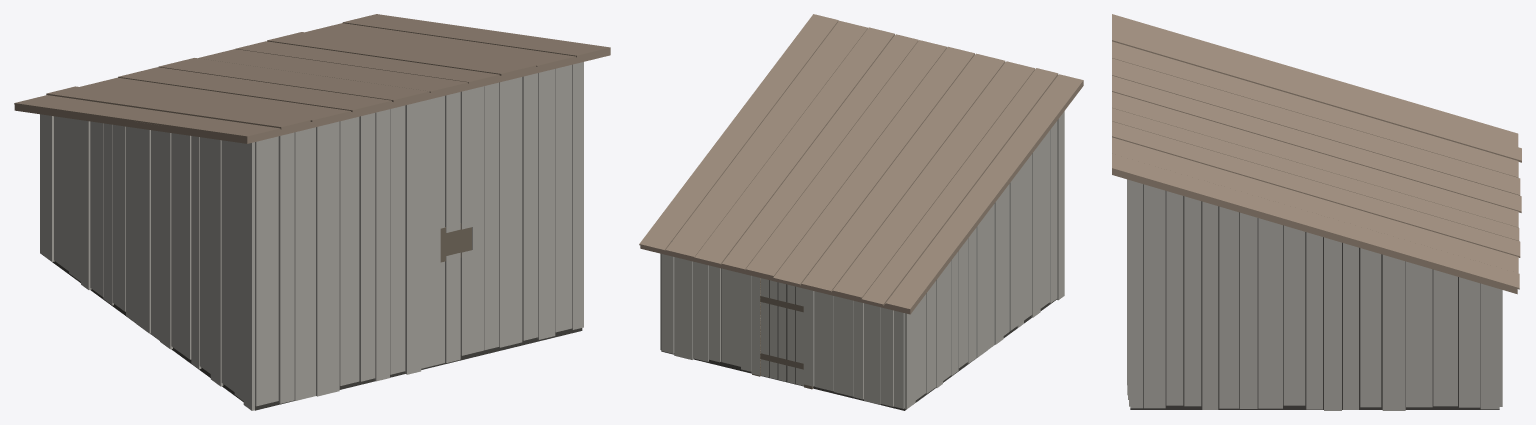
Rendered from recon_1835_blk_south_water_dearborn_d2_04__inferred_1835.glb.
The picture shows the model from 3 angles, left to right: view 1: azimuth 30°, elevation 25°; view 2: azimuth 150°, elevation 25°; view 3: azimuth 270°, elevation 25°; orthographic projection. The views are drawn at different scales.
Parts seen in each view (by area): view 1: recon_1835_blk_south_water_dearborn_d2_04__inferred_1835; view 2: recon_1835_blk_south_water_dearborn_d2_04__inferred_1835; view 3: recon_1835_blk_south_water_dearborn_d2_04__inferred_1835.
Boxes of the visible parts, x1=… form: recon_1835_blk_south_water_dearborn_d2_04__inferred_1835: x1=14, y1=14, x2=610, y2=410; recon_1835_blk_south_water_dearborn_d2_04__inferred_1835: x1=639, y1=14, x2=1083, y2=410; recon_1835_blk_south_water_dearborn_d2_04__inferred_1835: x1=1112, y1=14, x2=1521, y2=410.
Bounding box in the file's own units: 5.29 × 3.99 × 5.93.
